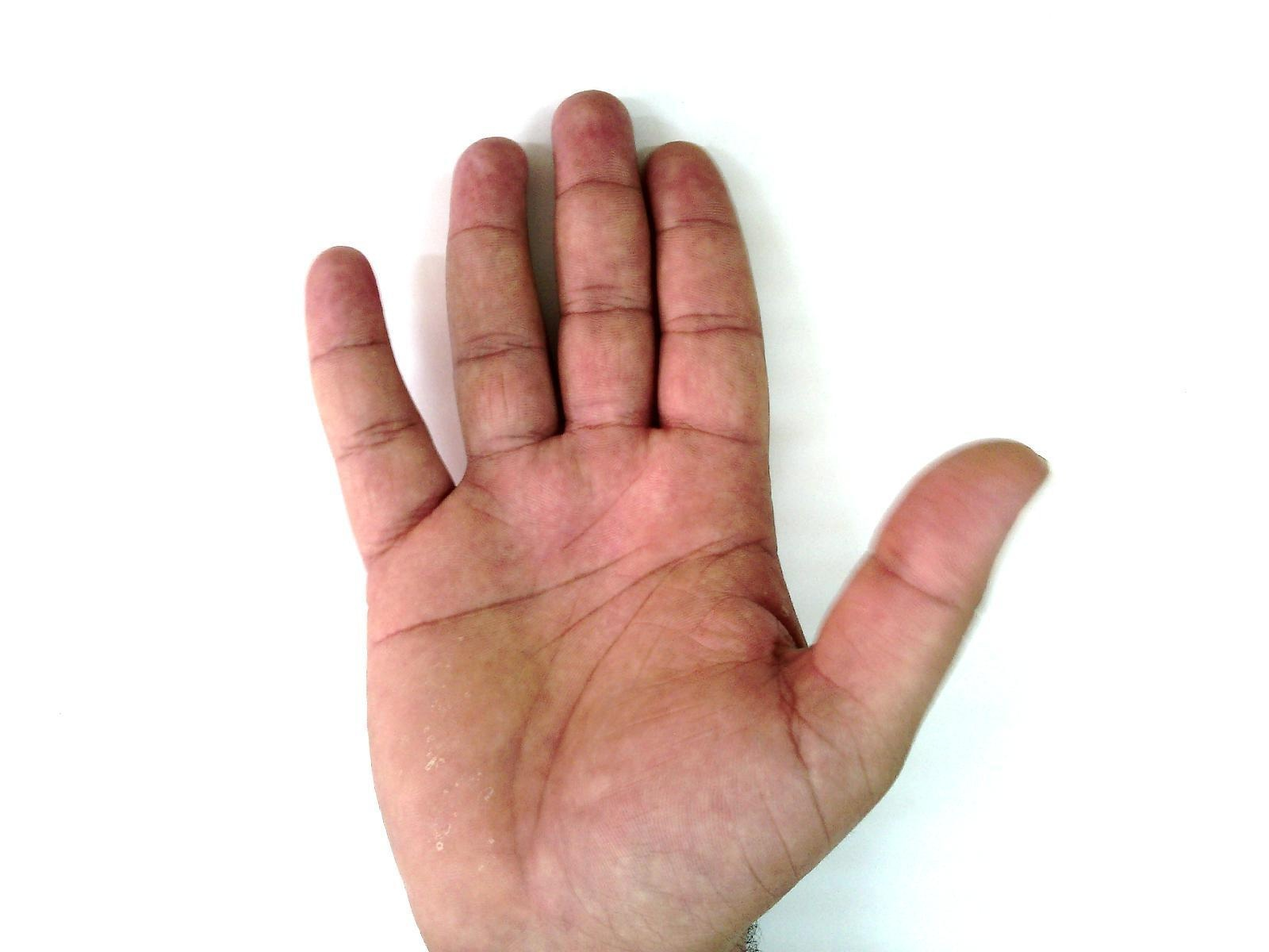open_palm: (301, 88, 1052, 951)
